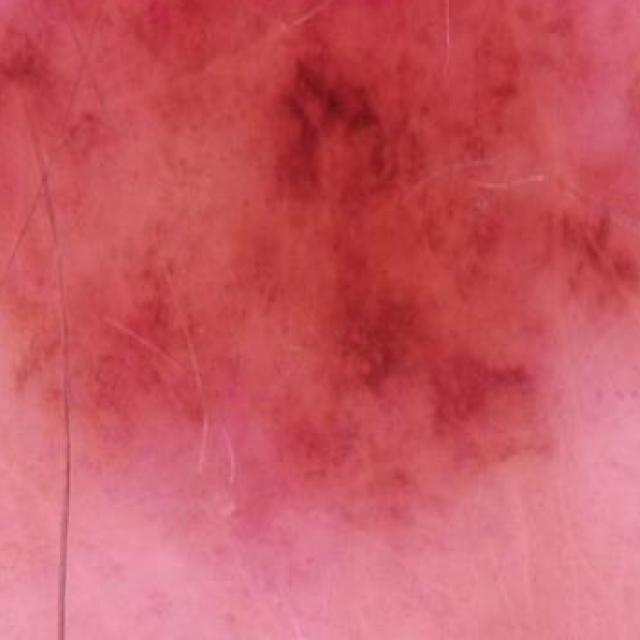NV: (0, 0, 640, 548)
